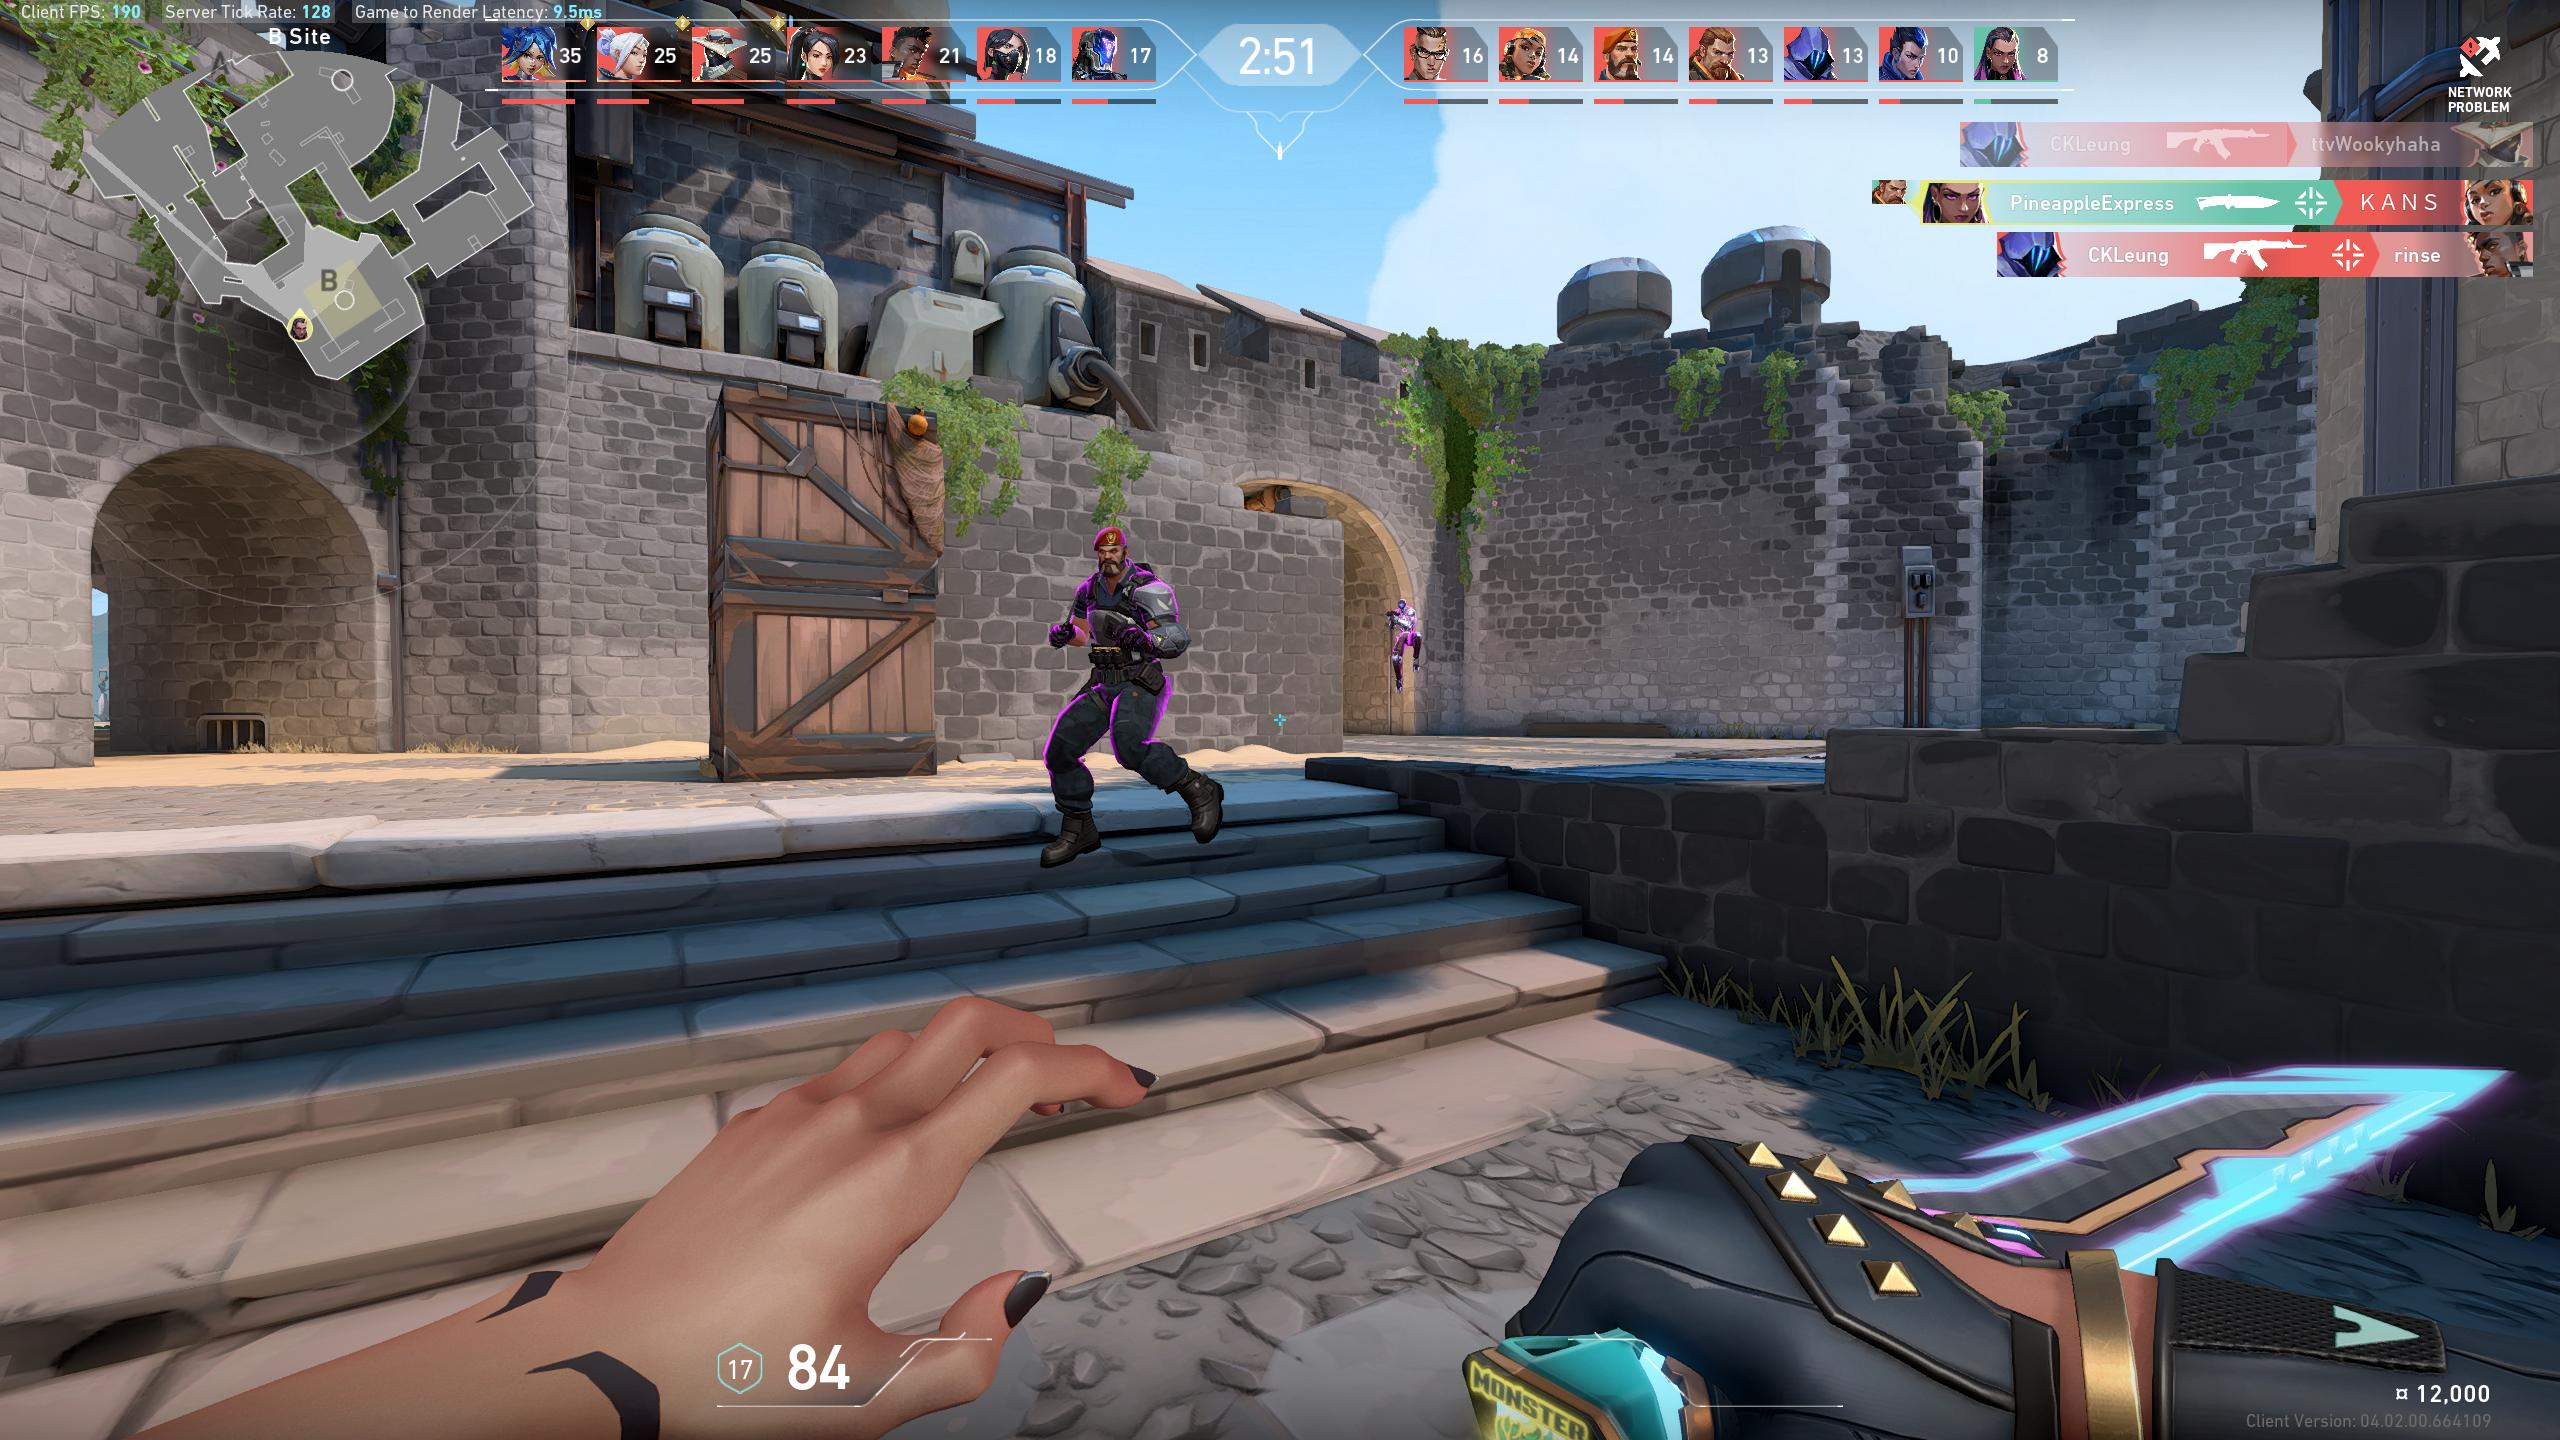enemyBody: (1095, 587, 1143, 668), (1401, 614, 1412, 635)
enemyHead: (1101, 536, 1125, 578), (1400, 601, 1405, 612)
